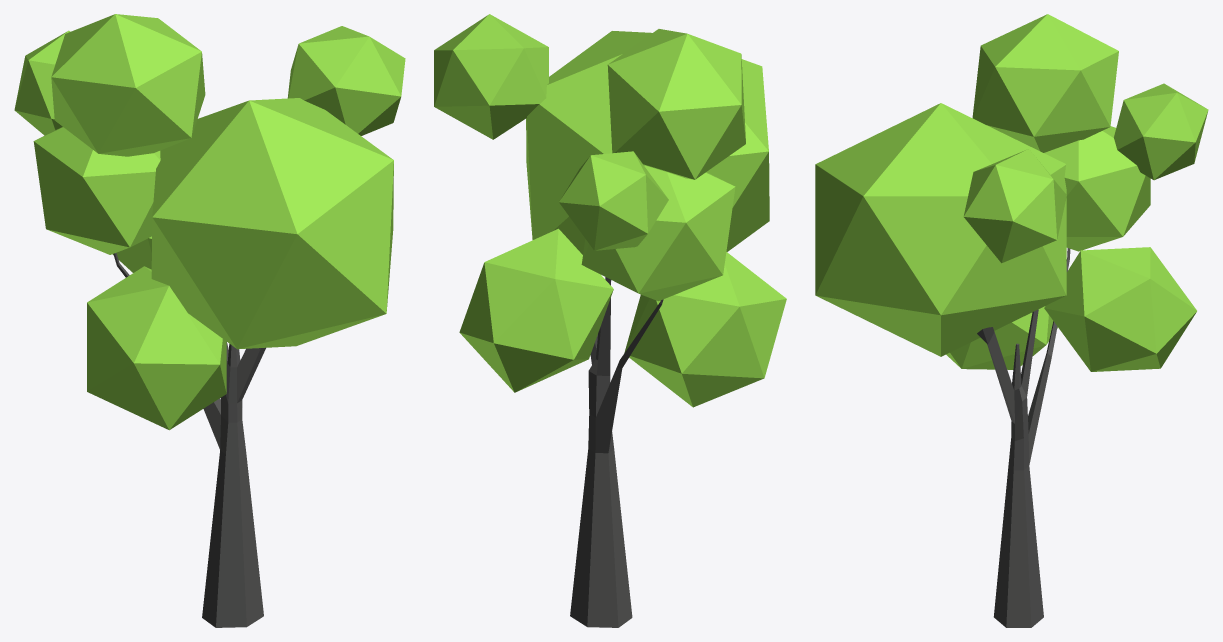
The model's file is Tree2.fbx.
3 renders of one model, left to right at view 1: azimuth 30°, elevation 25°; view 2: azimuth 150°, elevation 25°; view 3: azimuth 270°, elevation 25°, orthographic. The views are drawn at different scales.
Parts seen in each view (by area): view 1: Icosphere.020, Icosphere.024, Icosphere.022, Icosphere.021, Cylinder.003, Icosphere.025, Icosphere.023, Icosphere.026; view 2: Icosphere.020, Icosphere.024, Icosphere.026, Icosphere.022, Cylinder.003, Icosphere.021, Icosphere.025, Icosphere.023; view 3: Icosphere.020, Icosphere.024, Icosphere.026, Cylinder.003, Icosphere.025, Icosphere.021, Icosphere.023, Icosphere.022.
Part boxes in pixels (x1,y1,x2,y2): Icosphere.020: (151,98,393,349); Icosphere.024: (51,14,205,156); Icosphere.022: (87,266,226,430); Icosphere.021: (33,127,160,254); Cylinder.003: (113,253,265,627); Icosphere.025: (287,26,405,135); Icosphere.023: (14,30,70,135); Icosphere.026: (112,236,151,272); Icosphere.020: (526,31,769,254); Icosphere.024: (607,29,745,179); Icosphere.026: (459,228,613,392); Icosphere.022: (624,252,786,407); Cylinder.003: (570,277,663,627); Icosphere.021: (581,165,735,301); Icosphere.025: (434,14,548,139); Icosphere.023: (559,151,668,250); Icosphere.020: (815,103,1066,356); Icosphere.024: (972,14,1118,152); Icosphere.026: (1044,247,1196,371); Cylinder.003: (977,248,1070,627); Icosphere.025: (963,149,1066,263); Icosphere.021: (1044,126,1150,251); Icosphere.023: (1114,83,1208,180); Icosphere.022: (946,306,1057,369).
Bounding box in the file's own units: 2427 × 4332 × 2765.
